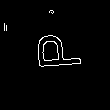P_W: (26, 38, 81, 79)
